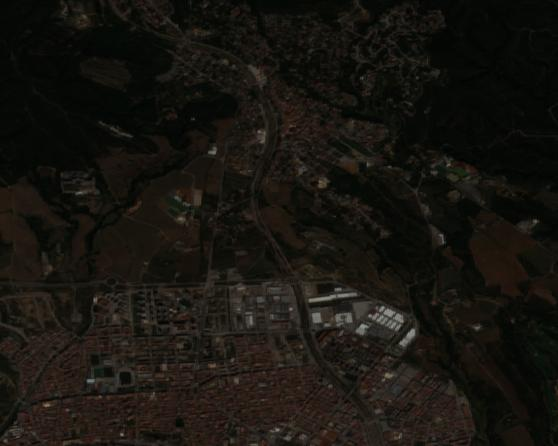Industria: (217, 257, 427, 351)
Poblacion: (8, 278, 485, 446), (188, 0, 441, 187)
